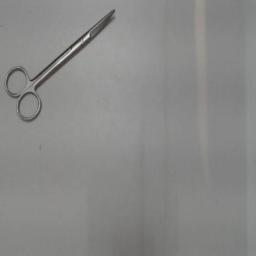Curved Mayo Scissors: (2, 5, 118, 127)
